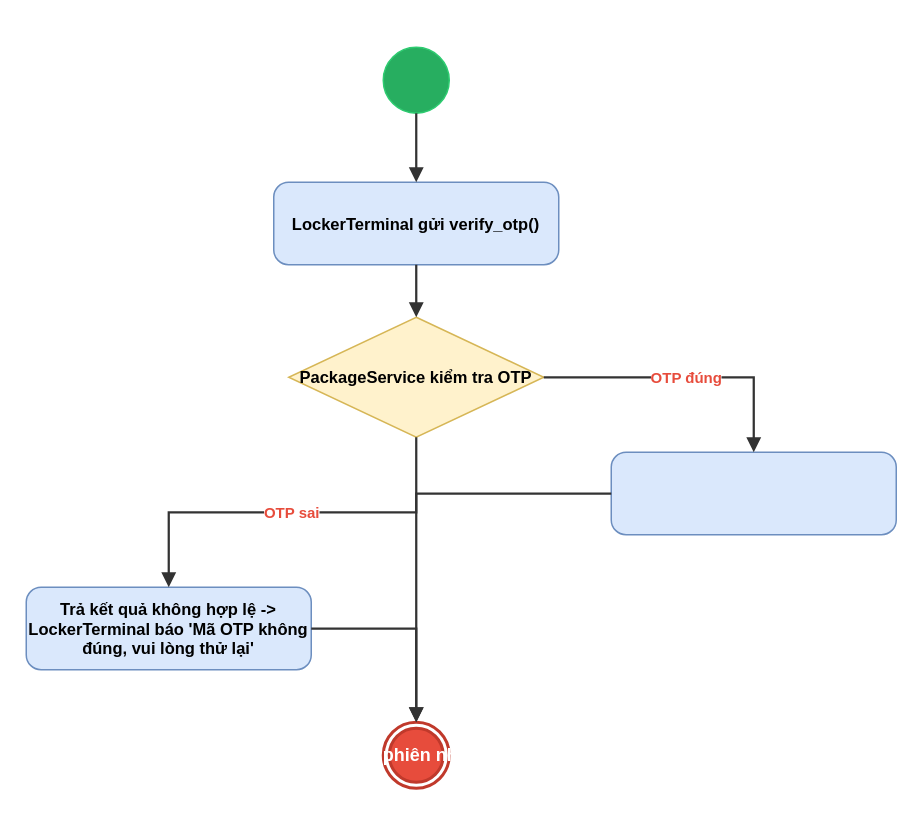
This 923x816 diagram has some shape labels left out. Here are the shapes that lost their labels. From the top down, the centre of each, then its label:
(x=415, y=79): Khách nhận hàng nhập OTP
(x=753, y=493): Trả kết quả hợp lệ -> LockerTerminal báo 'Mở tủ thành công'
